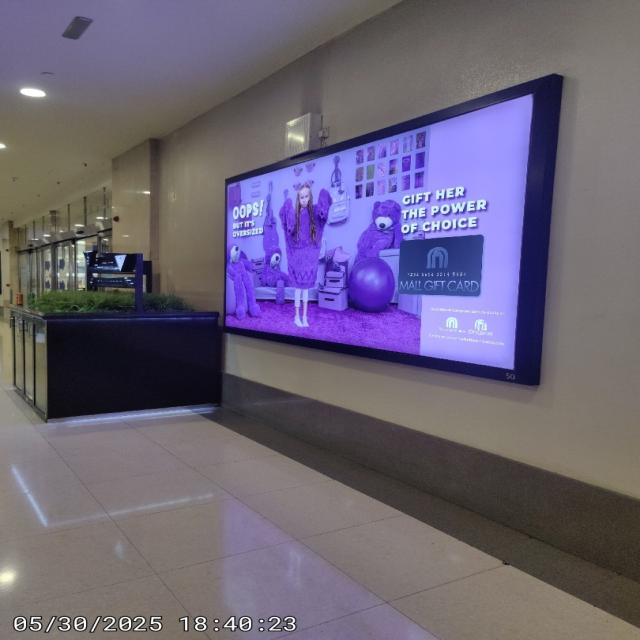digital-board-medium: (222, 67, 554, 386)
